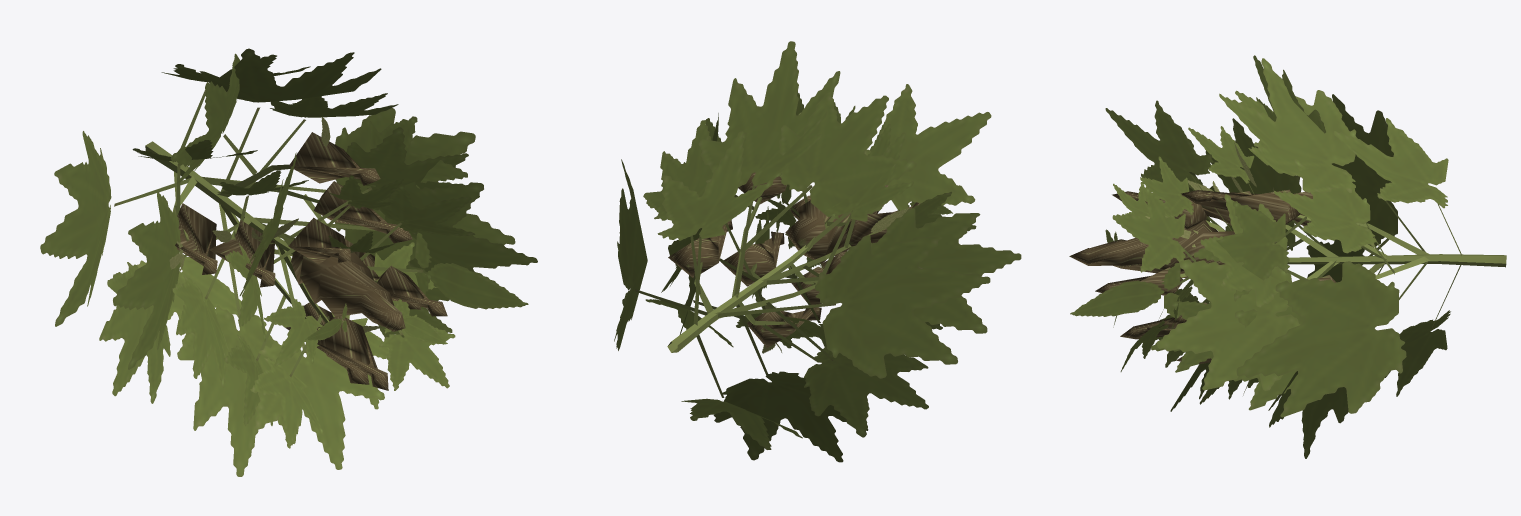
The model's file is p_dark_kush_flowering_c1_cards.obj.
3 renders of one model, left to right at view 1: azimuth 30°, elevation 25°; view 2: azimuth 150°, elevation 25°; view 3: azimuth 270°, elevation 25°, orthographic. The views are drawn at different scales.
Bounding box in the file's own units: 1.49 × 1.54 × 1.34.
Materials: 1 (1 with a texture image).
